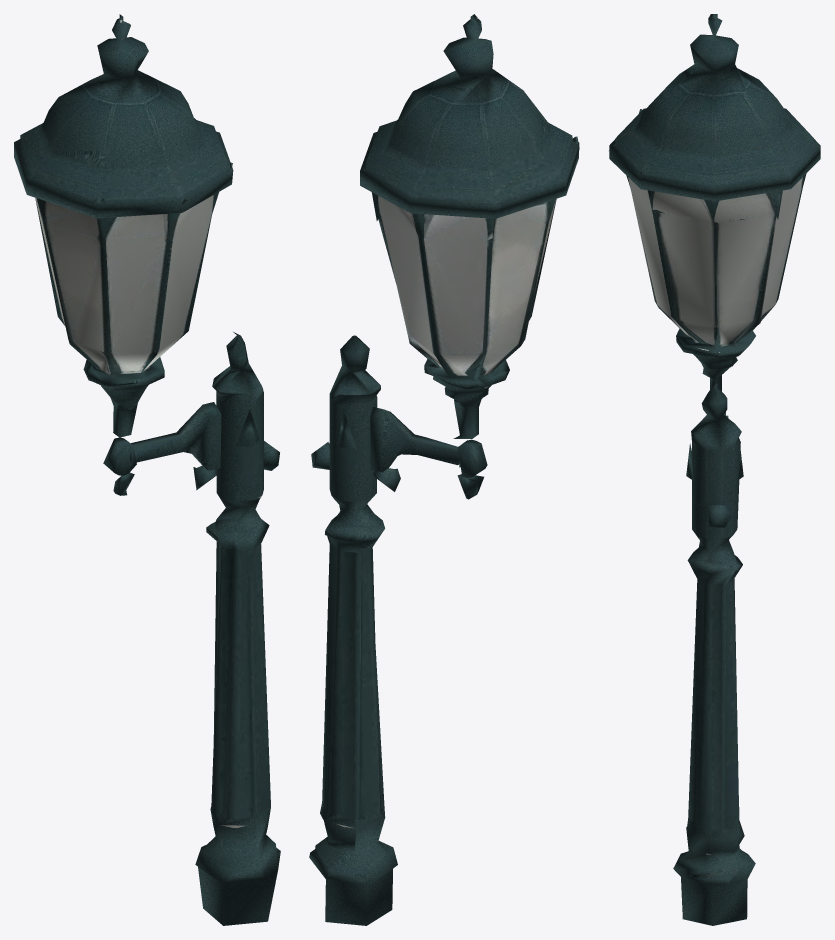
File: street_lamp.glb
3 views of the same model, side by side, from view 1: azimuth 30°, elevation 25°; view 2: azimuth 150°, elevation 25°; view 3: azimuth 270°, elevation 25° (orthographic). The views are drawn at different scales.
Bounding box in the file's own units: 1.2 × 4.17 × 0.9458.
1 material, 1 textured.
